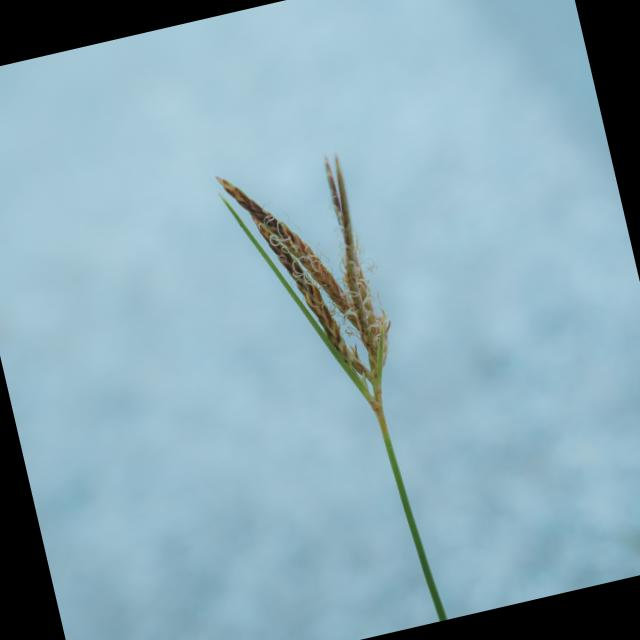cyperus: (198, 130, 438, 424)
